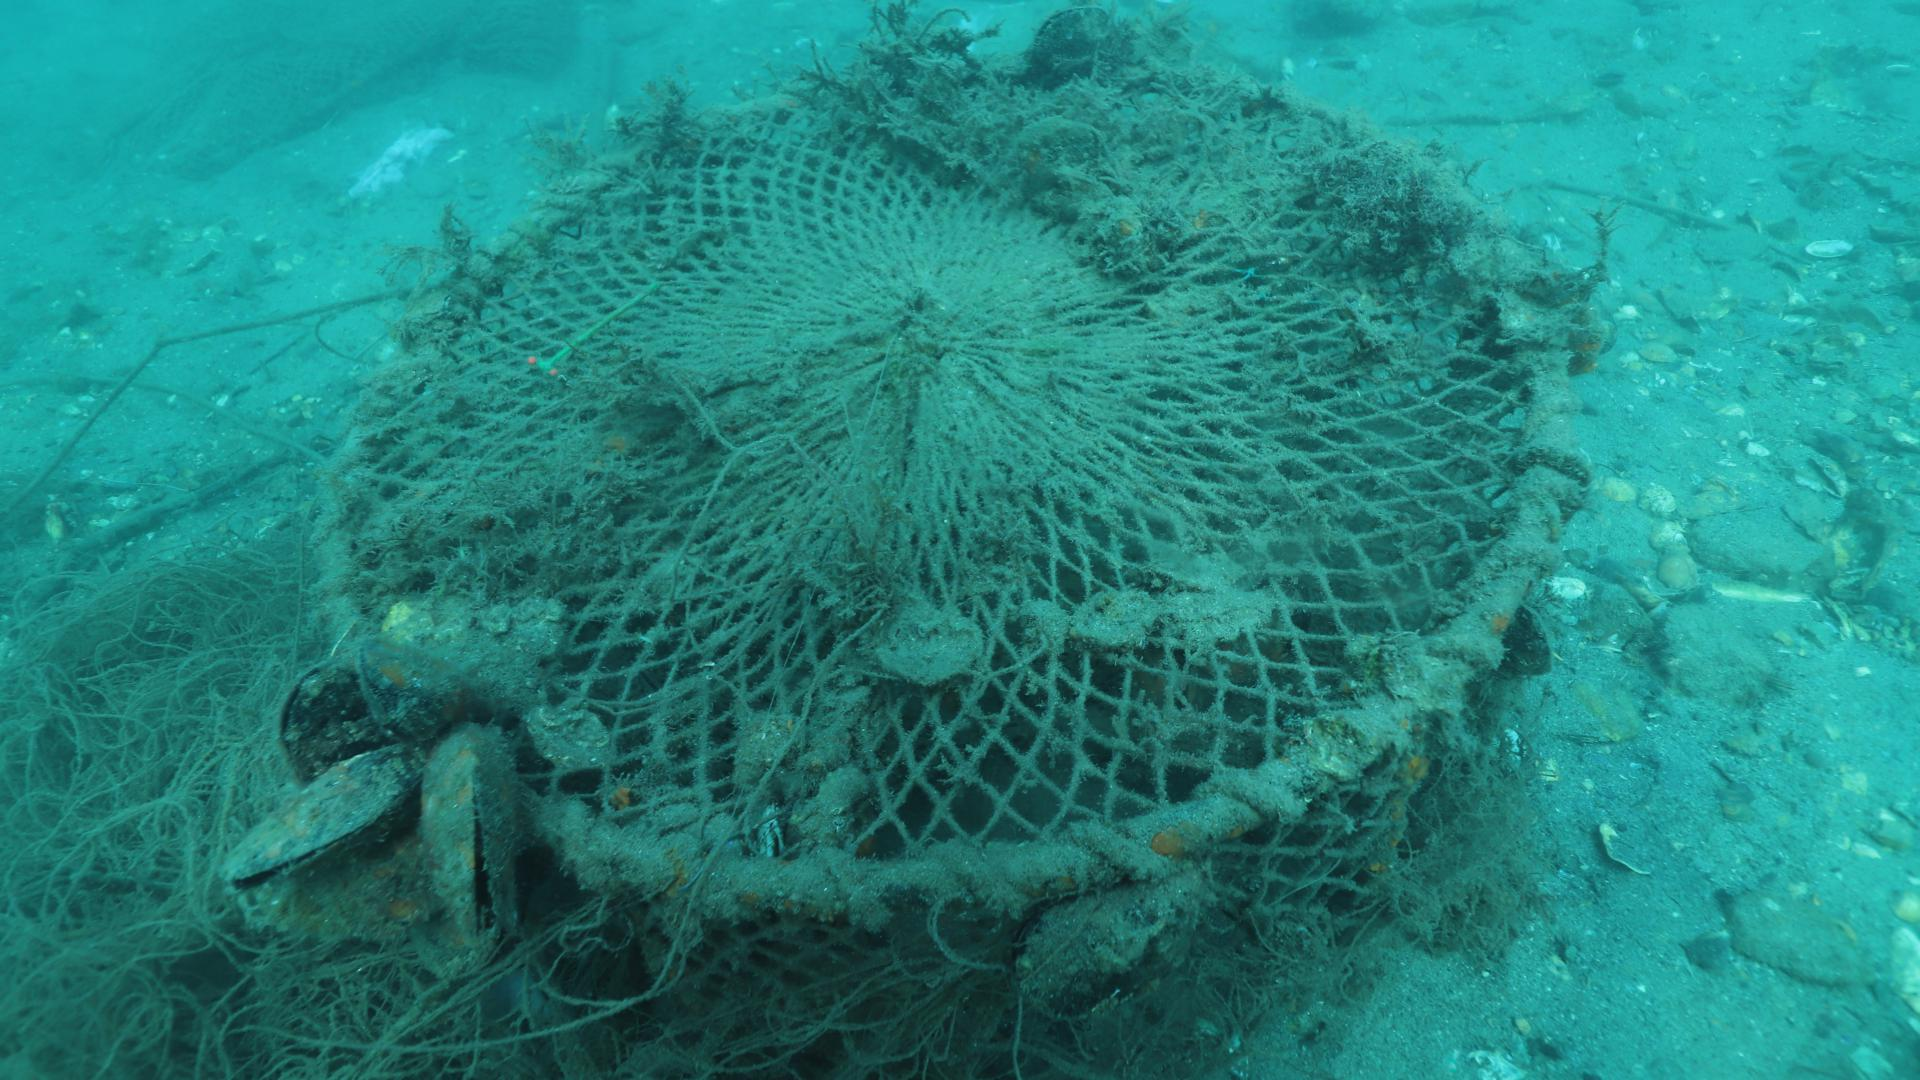circular fish trap: (309, 54, 1581, 997)
